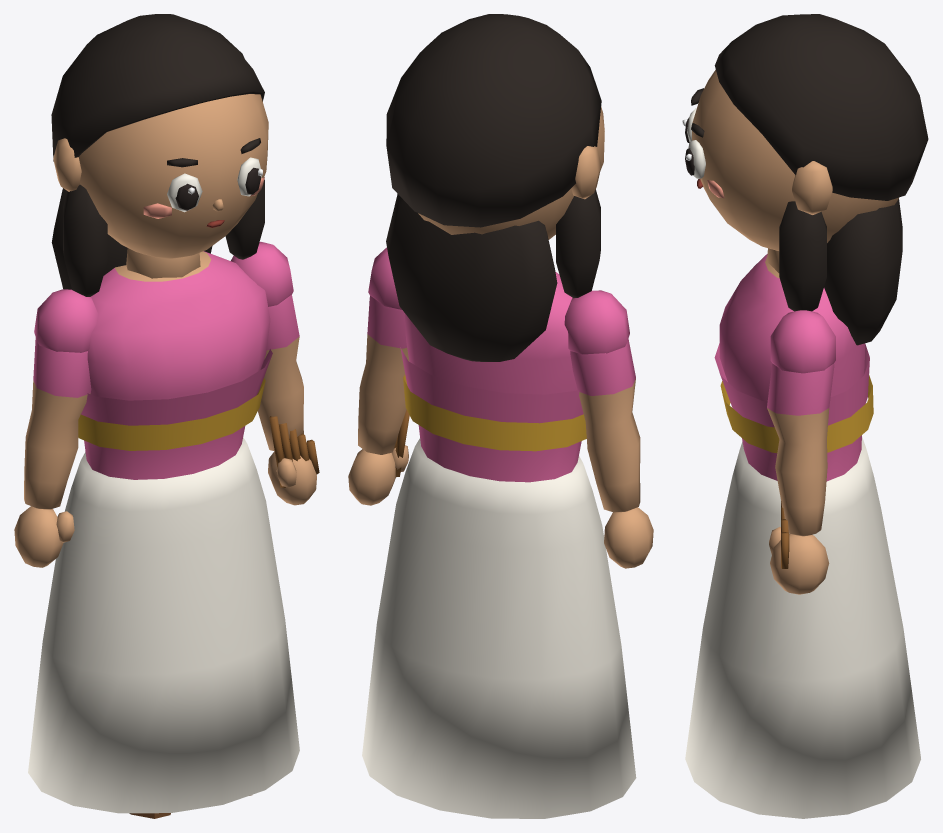
File: floetistin.glb
3 views of the same model, side by side, from view 1: azimuth 30°, elevation 25°; view 2: azimuth 150°, elevation 25°; view 3: azimuth 270°, elevation 25° (orthographic).
Parts seen in each view (by area): view 1: huefte, rumpf, haare, kopf, armL, armR, itemR, augeL, augeR; view 2: huefte, haare, rumpf, armL, armR, kopf; view 3: huefte, haare, rumpf, armR, kopf, augeR.
Boxes of the visible parts, x1,y1,x2,y2 form: huefte: [28, 437, 299, 813]; rumpf: [78, 251, 272, 479]; haare: [51, 14, 264, 296]; kopf: [53, 94, 268, 278]; armL: [14, 289, 98, 567]; armR: [231, 241, 316, 505]; itemR: [269, 416, 319, 487]; augeL: [167, 173, 202, 212]; augeR: [237, 157, 262, 196]; huefte: [362, 438, 636, 818]; haare: [386, 14, 601, 361]; rumpf: [400, 272, 586, 482]; armL: [564, 290, 653, 568]; armR: [348, 247, 409, 505]; kopf: [418, 106, 604, 239]; huefte: [685, 436, 920, 818]; haare: [714, 14, 928, 345]; rumpf: [714, 254, 873, 481]; armR: [767, 310, 835, 594]; kopf: [691, 70, 898, 272]; augeR: [685, 140, 705, 179].
Size of the model in its own units: 0.9329 by 2.29 by 0.6776.
